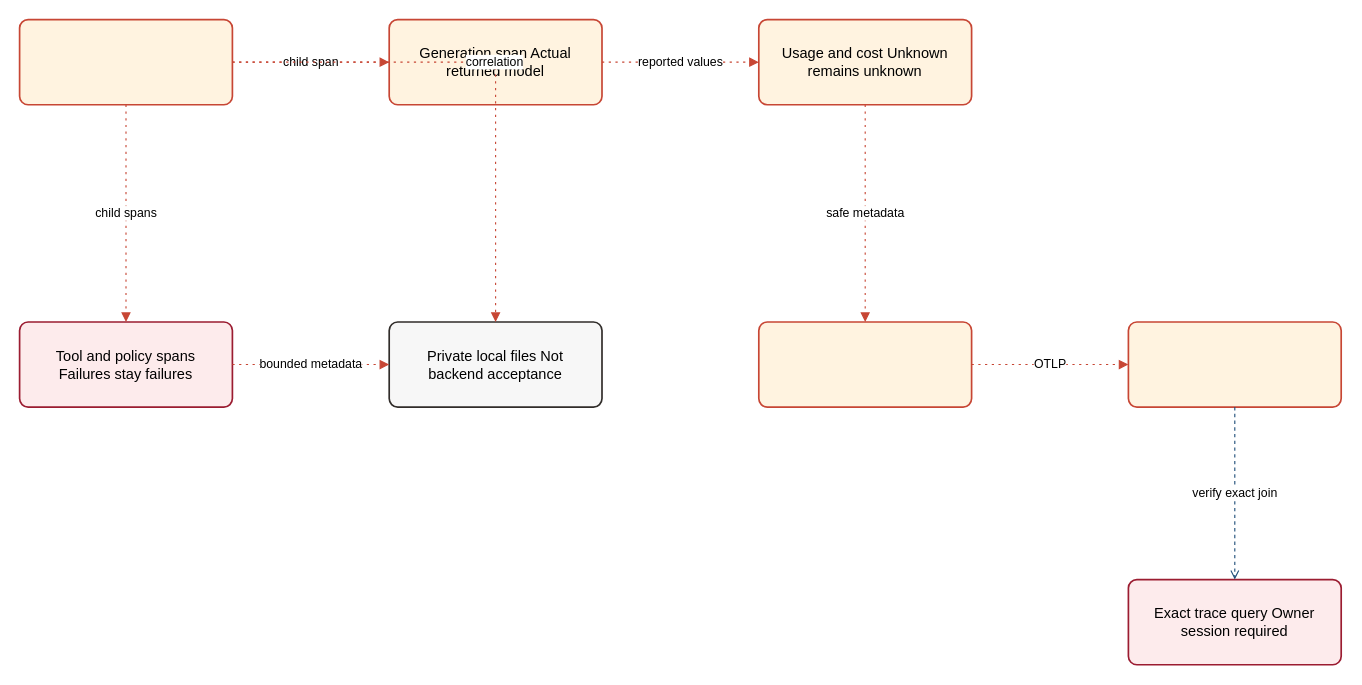
Image size: 1362x685. Some labels were removed from this diagram. Here are the shapes that lost their labels. From the top down, the centre of each, then its label:
[125,61]: Agent run Shared session, new trace
[864,364]: Configured exporter Flush is delivery only
[1234,364]: Langfuse project External ingestion
